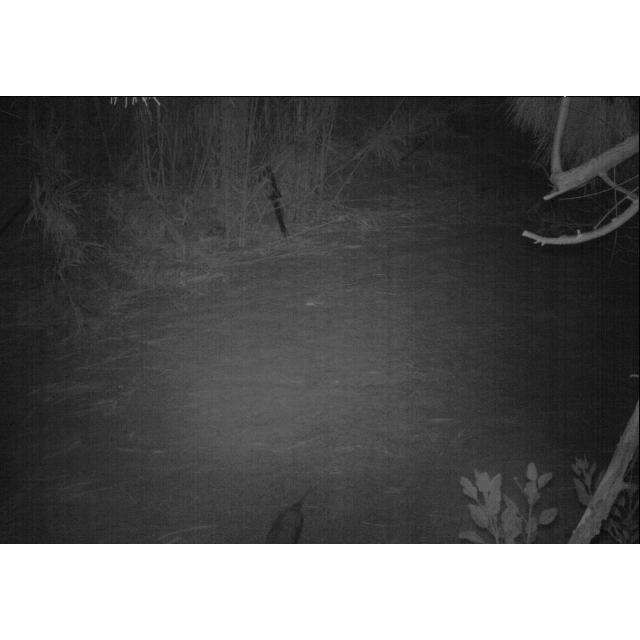animals: (260, 490, 324, 544)
